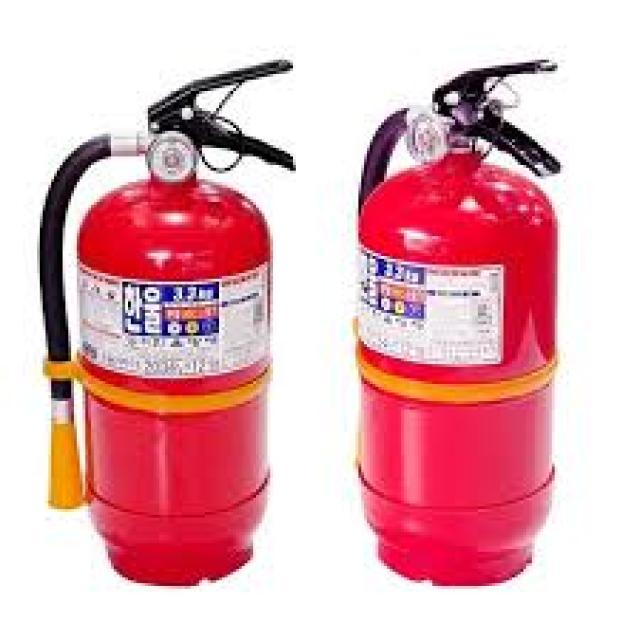pressure gauge: (148, 131, 199, 182), (407, 109, 449, 164)
